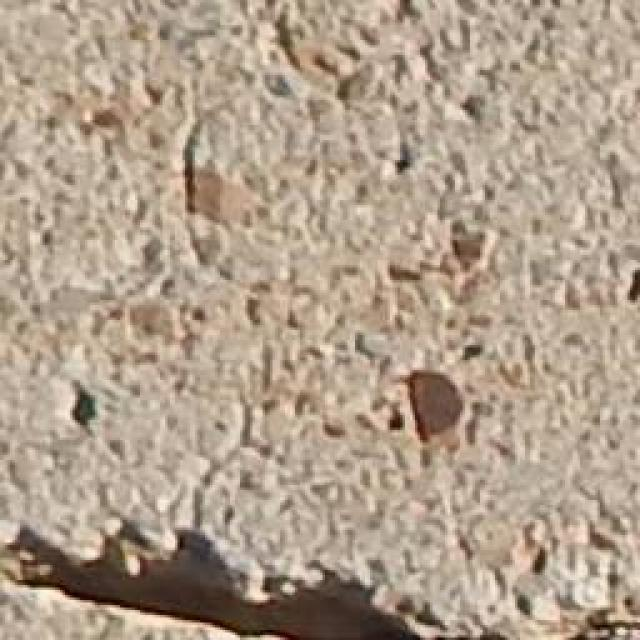concrete-crack: (0, 509, 640, 640), (400, 370, 468, 452), (185, 142, 225, 220)
